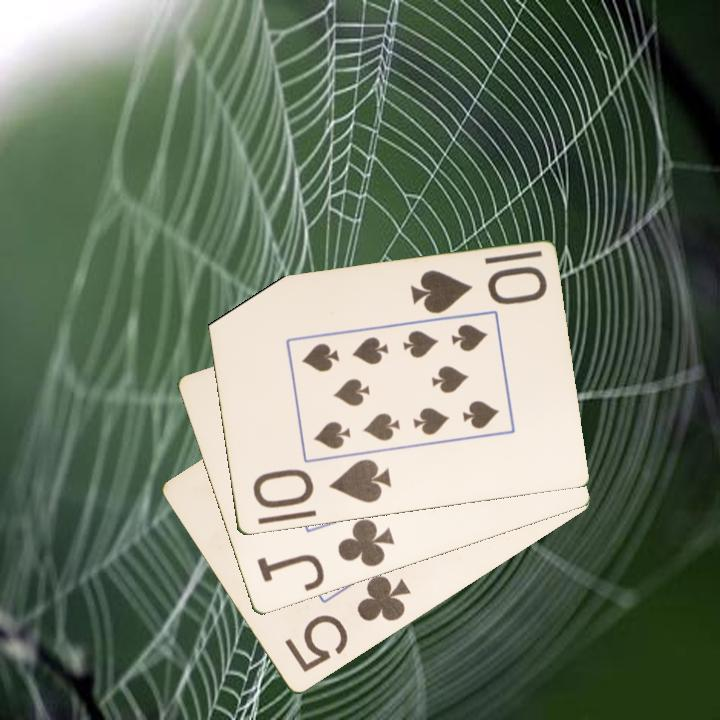10s: (248, 456, 394, 512), (406, 263, 550, 317)
5c: (281, 572, 414, 676)
Jc: (253, 515, 397, 595)
